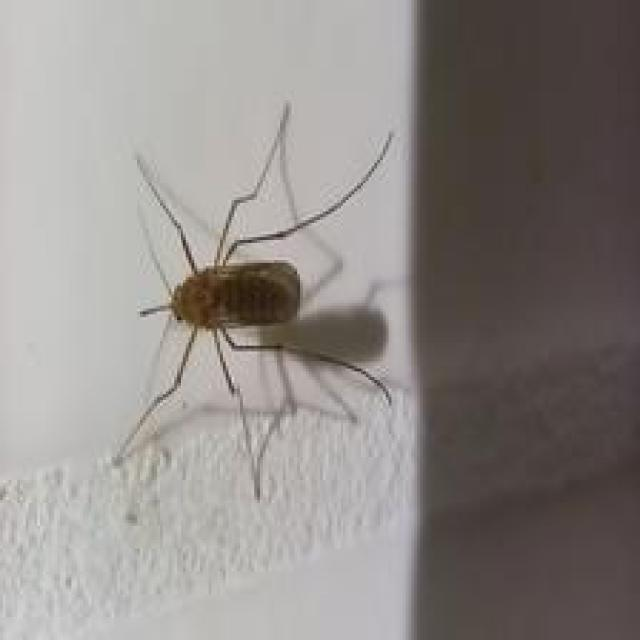Culex: (110, 100, 399, 503)
